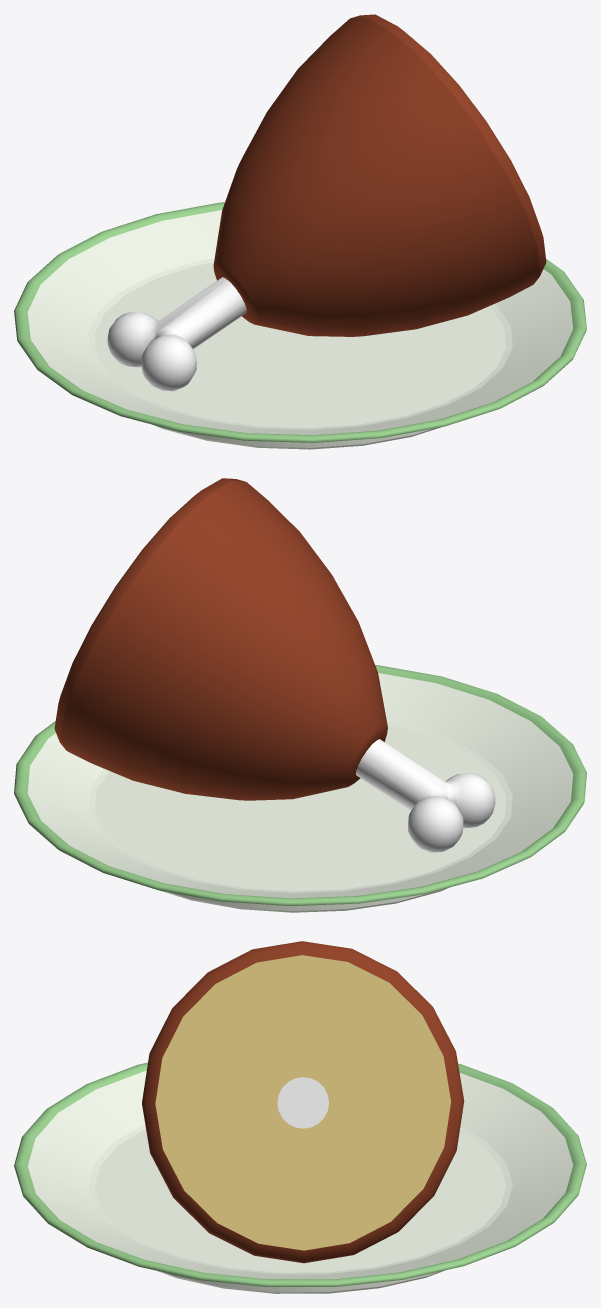
The model's file is Fridgerer_Ham.glb.
3 views of the same model, one above another, from view 1: azimuth 30°, elevation 25°; view 2: azimuth 150°, elevation 25°; view 3: azimuth 270°, elevation 25° (orthographic).
Parts seen in each view (by area): view 1: Ham; view 2: Ham; view 3: Ham.
Part boxes in pixels (x1,y1,x2,y2): Ham: (14, 14, 586, 449); Ham: (14, 478, 586, 912); Ham: (14, 941, 586, 1293).
Bounding box in the file's own units: 0.3569 × 0.2108 × 0.3593.
Materials: 3 (1 with a texture image).
